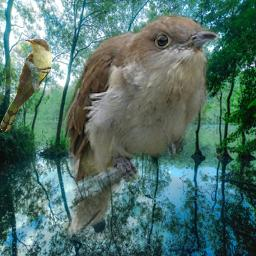Cuckoo: (60, 12, 220, 240), (0, 38, 52, 133)
